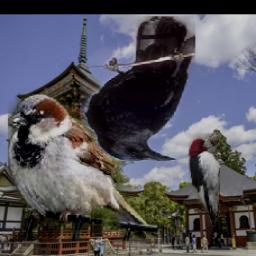Crow: (81, 16, 196, 161)
Sparrow: (9, 94, 158, 241)
Woodpecker: (189, 133, 220, 236)
